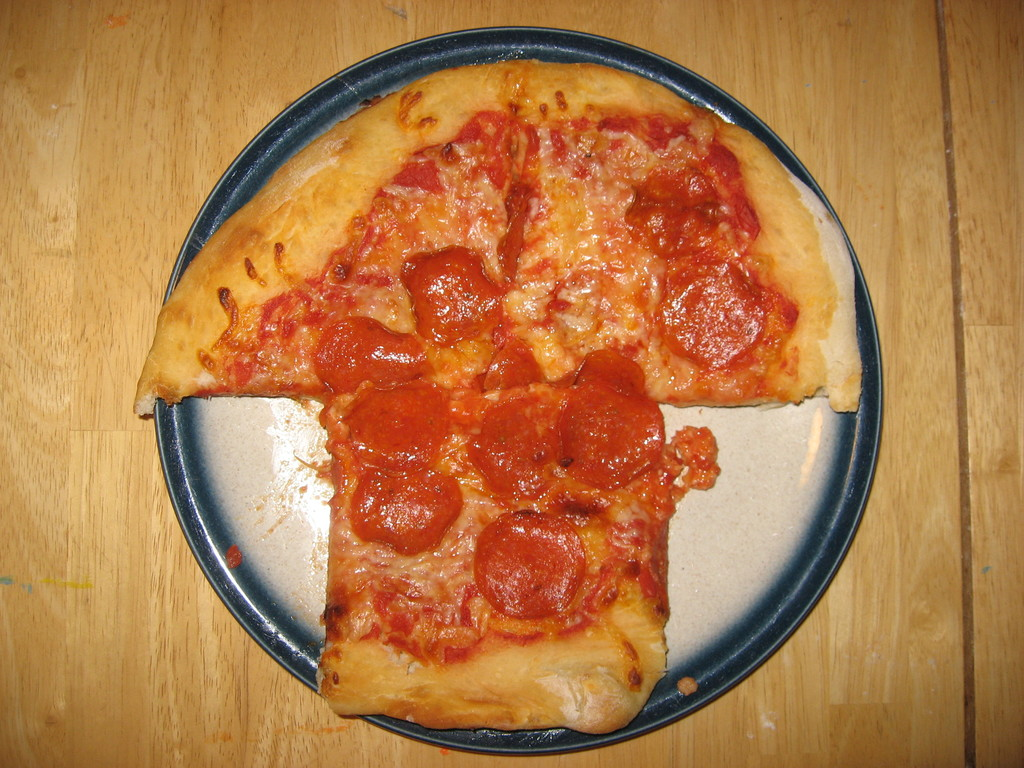Pizza: (318, 348, 716, 735), (131, 54, 526, 399), (493, 62, 856, 415)
